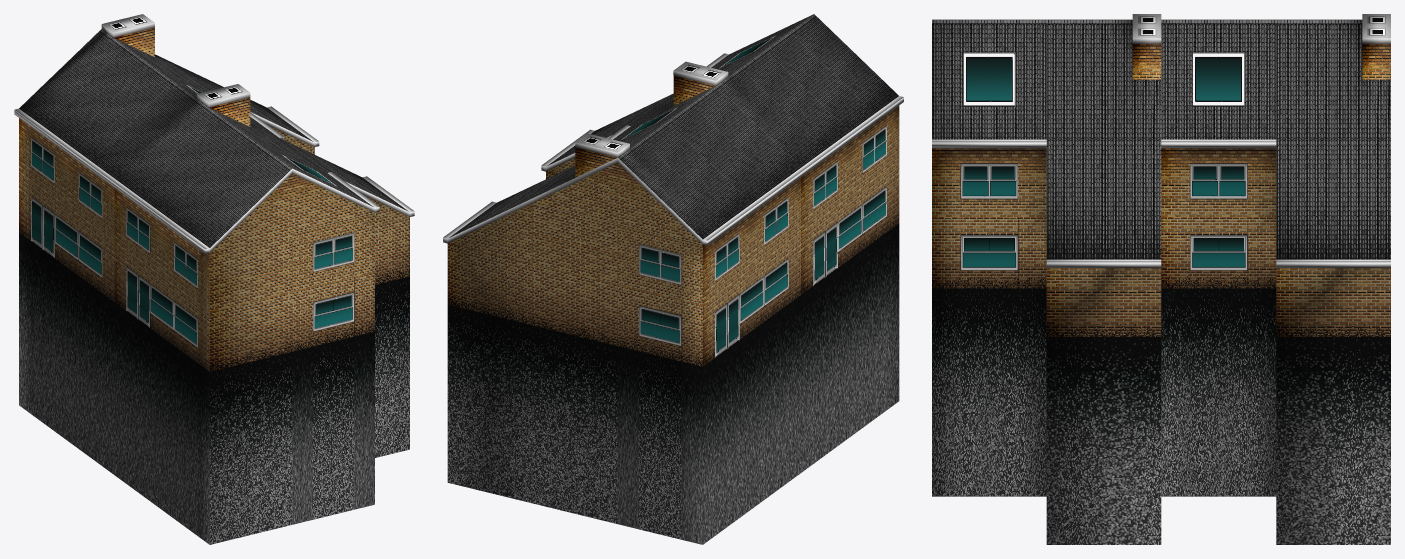
File: doorzon_mod3_2b.fbx
3 renders of one model, left to right at view 1: azimuth 30°, elevation 25°; view 2: azimuth 150°, elevation 25°; view 3: azimuth 270°, elevation 25°, orthographic. The views are drawn at different scales.
Parts seen in each view (by area): view 1: doorzon_mod3_2b; view 2: doorzon_mod3_2b; view 3: doorzon_mod3_2b.
Boxes of the visible parts, x1,y1,x2,y2 form: doorzon_mod3_2b: [14, 14, 414, 544]; doorzon_mod3_2b: [443, 14, 903, 544]; doorzon_mod3_2b: [932, 14, 1390, 544].
Size of the model in its own units: 1400 by 1879 by 1800.
